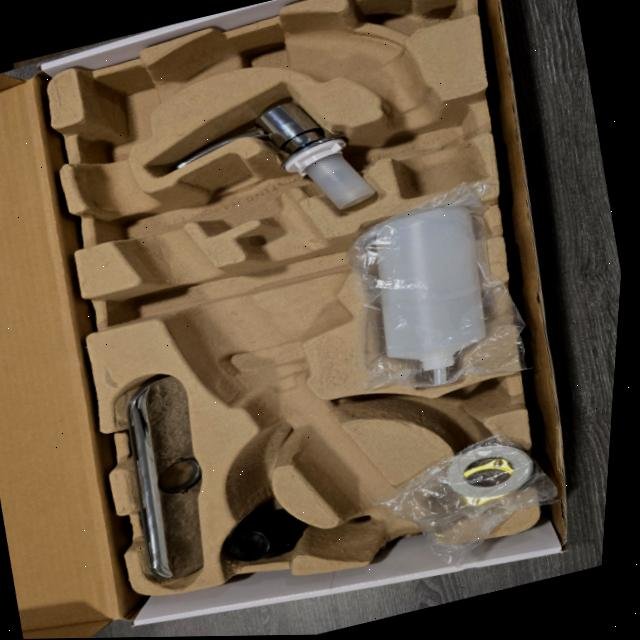1m: (84, 8, 485, 559)
2: (177, 101, 374, 209)
3: (372, 205, 488, 384)
4: (129, 375, 203, 577)
5: (222, 511, 305, 563)
6: (374, 429, 560, 570)
7m: (373, 376, 512, 429)
